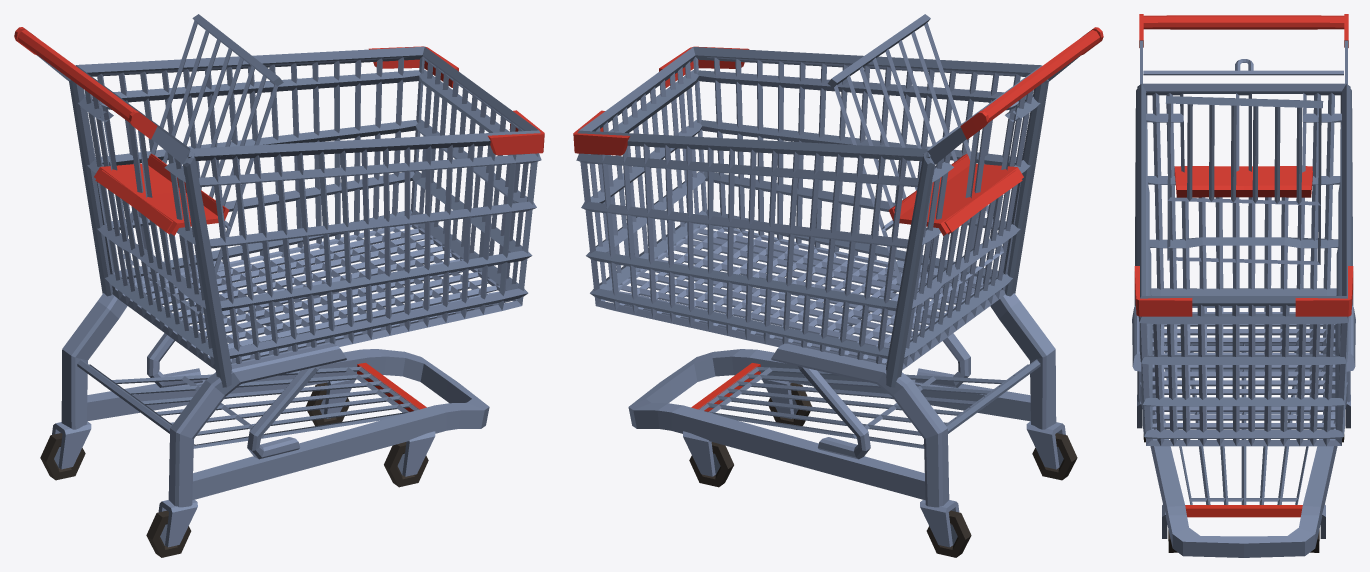
File: ShoppingCart_LoPoly.fbx
3 renders of one model, left to right at view 1: azimuth 30°, elevation 25°; view 2: azimuth 150°, elevation 25°; view 3: azimuth 270°, elevation 25°, orthographic. The views are drawn at different scales.
Visible parts, largest first — view 1: MainFrame; view 2: MainFrame; view 3: MainFrame.
Boxes of the visible parts, x1,y1,x2,y2 form: MainFrame: [14, 14, 544, 557]; MainFrame: [573, 14, 1103, 557]; MainFrame: [1132, 14, 1355, 557].
Size of the model in its own units: 156 by 163 by 81.04.
